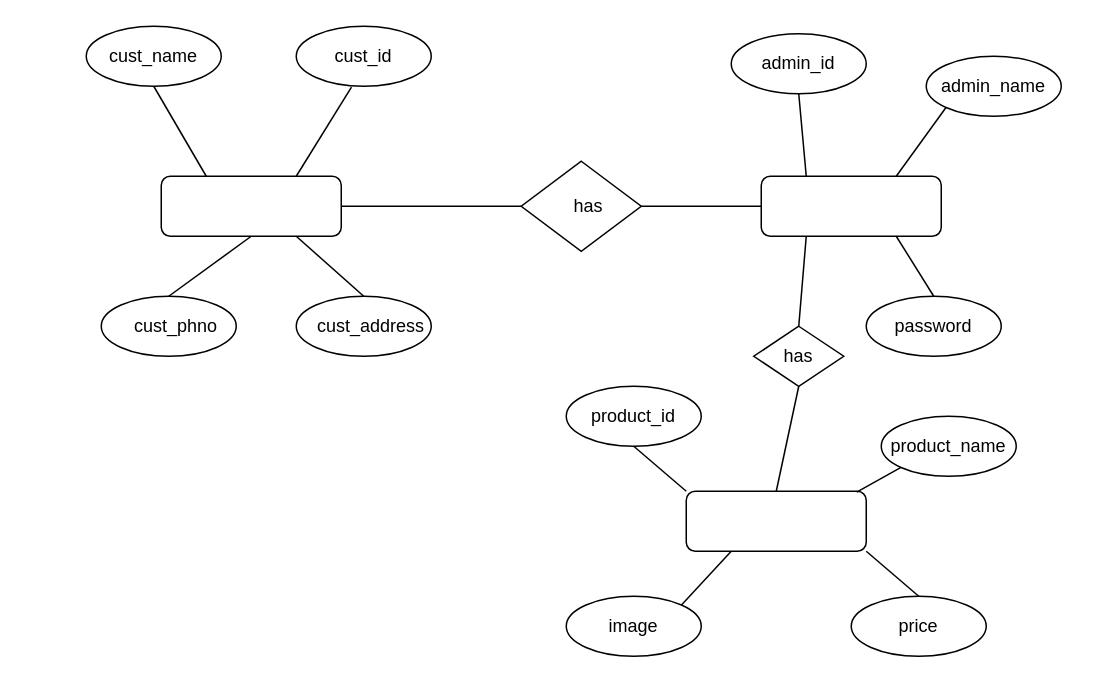
Some shapes in this 1109 by 683 pixel diagram are drawn without their labels. Each missing label, with the centre of its shape:
"Administrator" goes at (x=850, y=205).
"customer" goes at (x=250, y=205).
"Product" goes at (x=775, y=520).
